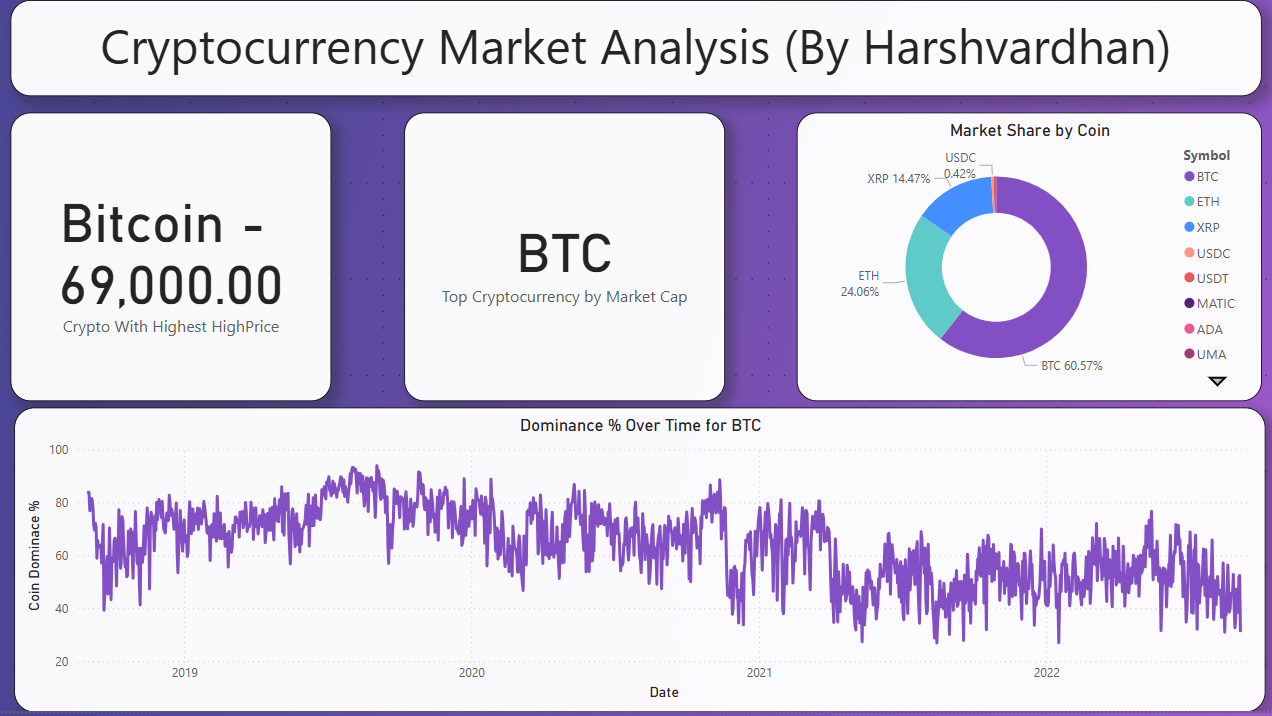

Layout of this report page (visuals, bound fields, positions):
{"tool":"powerbi","page":{"name":"Page 1","canvas":[1280,720],"ordinal":0},"visuals":[{"type":"textbox","box":[12.8,9.6,1248,96],"z":0},{"type":"card","fields":{"Values":["crypto_coins.Crypto Highest HighPrice"]},"box":[12.8,121.6,320,288],"z":1000},{"type":"card","fields":{"Values":["crypto_coins.Top Crypto"]},"box":[404.8,121.6,320,288],"z":2000},{"type":"donutChart","title":"Market Share by Coin","fields":{"Category":["crypto_coins.Symbol"],"Y":["crypto_coins.Market Share %"]},"box":[796.8,121.6,464,288],"z":3000},{"type":"lineChart","fields":{"Category":["crypto_coins.Date"],"Y":["crypto_coins.Selected Coin Dominance %"]},"box":[16,416,1248,304],"z":4000}]}

Visuals, with their boxes in screenshot pixels (x1, y1, x2, y2), scaled from the page's 1280x720 canvas onto the 1272x716 screenshot:
textbox: detection(13, 10, 1253, 105)
card - crypto_coins.Crypto Highest HighPrice: detection(13, 121, 331, 407)
card - crypto_coins.Top Crypto: detection(402, 121, 720, 407)
"Market Share by Coin" donutChart: detection(792, 121, 1253, 407)
lineChart - crypto_coins.Date x crypto_coins.Selected Coin Dominance %: detection(16, 414, 1256, 715)
